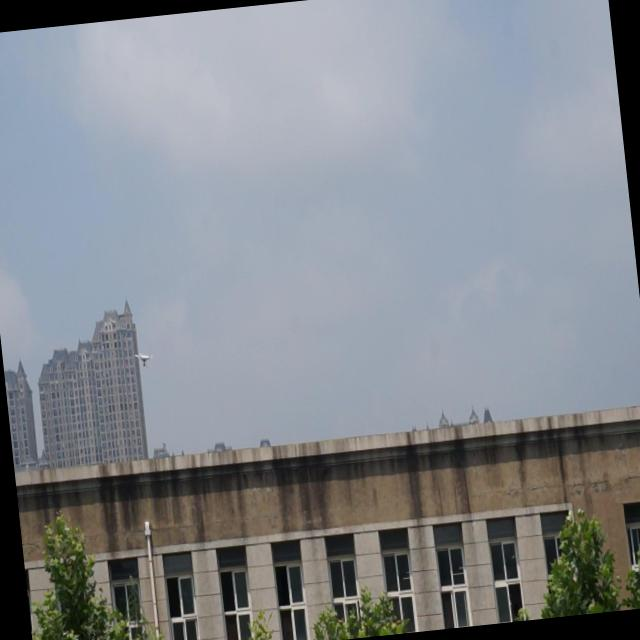drone: (132, 348, 156, 369)
